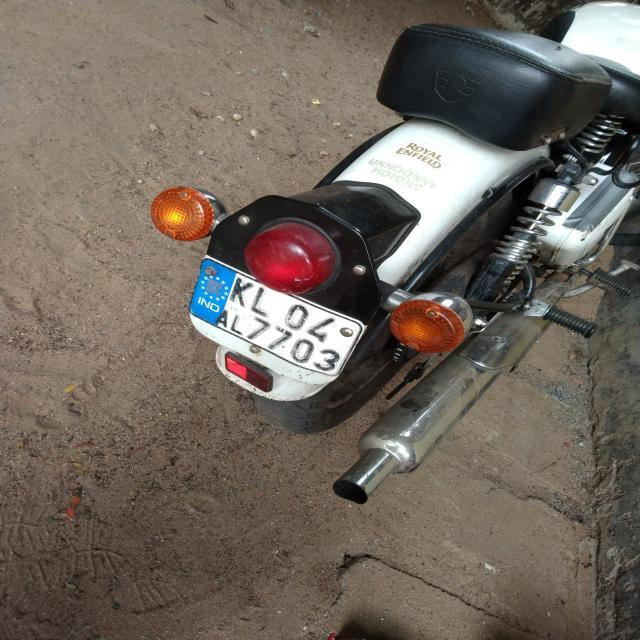plate: (188, 255, 365, 380)
